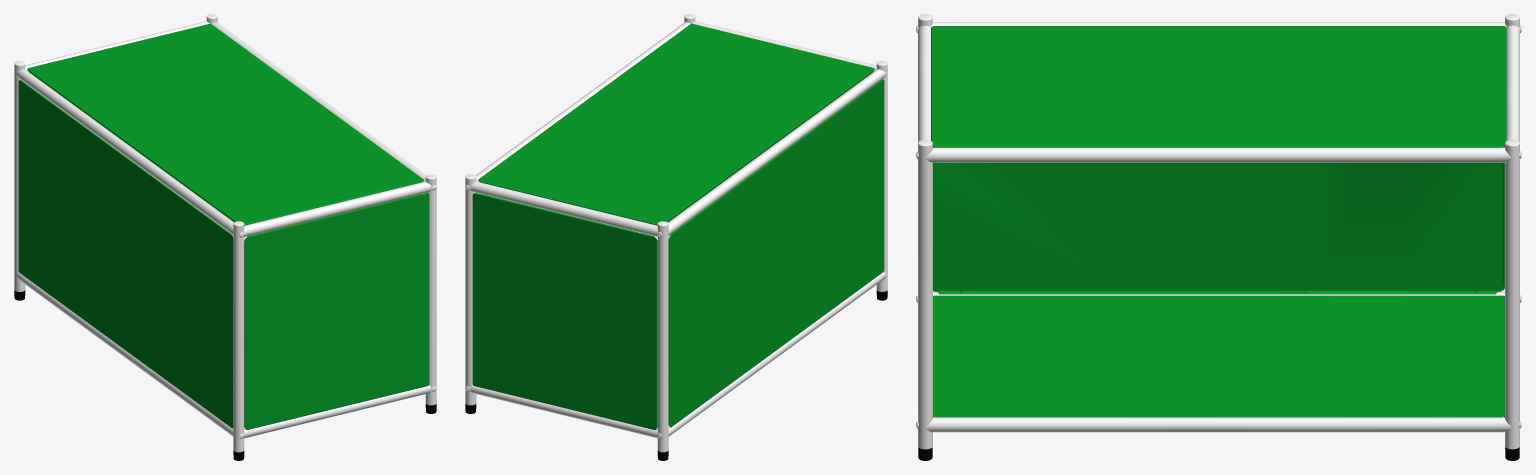
The model's file is 80x40x40-1-3-green_optimized_optimized.glb.
3 views of the same model, side by side, from view 1: azimuth 30°, elevation 25°; view 2: azimuth 150°, elevation 25°; view 3: azimuth 270°, elevation 25° (orthographic). The views are drawn at different scales.
Visible parts, largest first — view 1: 直角鐵板-80x40-5 - 零件, new-上塞-1 - 零件; view 2: 直角鐵板-80x40-5 - 零件, new-上塞-1 - 零件; view 3: 直角鐵板-80x40-5 - 零件, new-上塞-1 - 零件.
Boxes of the visible parts, x1,y1,x2,y2 form: 直角鐵板-80x40-5 - 零件: (18,23,429,429); new-上塞-1 - 零件: (14,14,436,452); 直角鐵板-80x40-5 - 零件: (472,23,884,429); new-上塞-1 - 零件: (465,14,887,452); 直角鐵板-80x40-5 - 零件: (931,26,1506,417); new-上塞-1 - 零件: (916,14,1521,449).
Bounding box in the file's own units: 0.3992 × 0.4453 × 0.7732.
